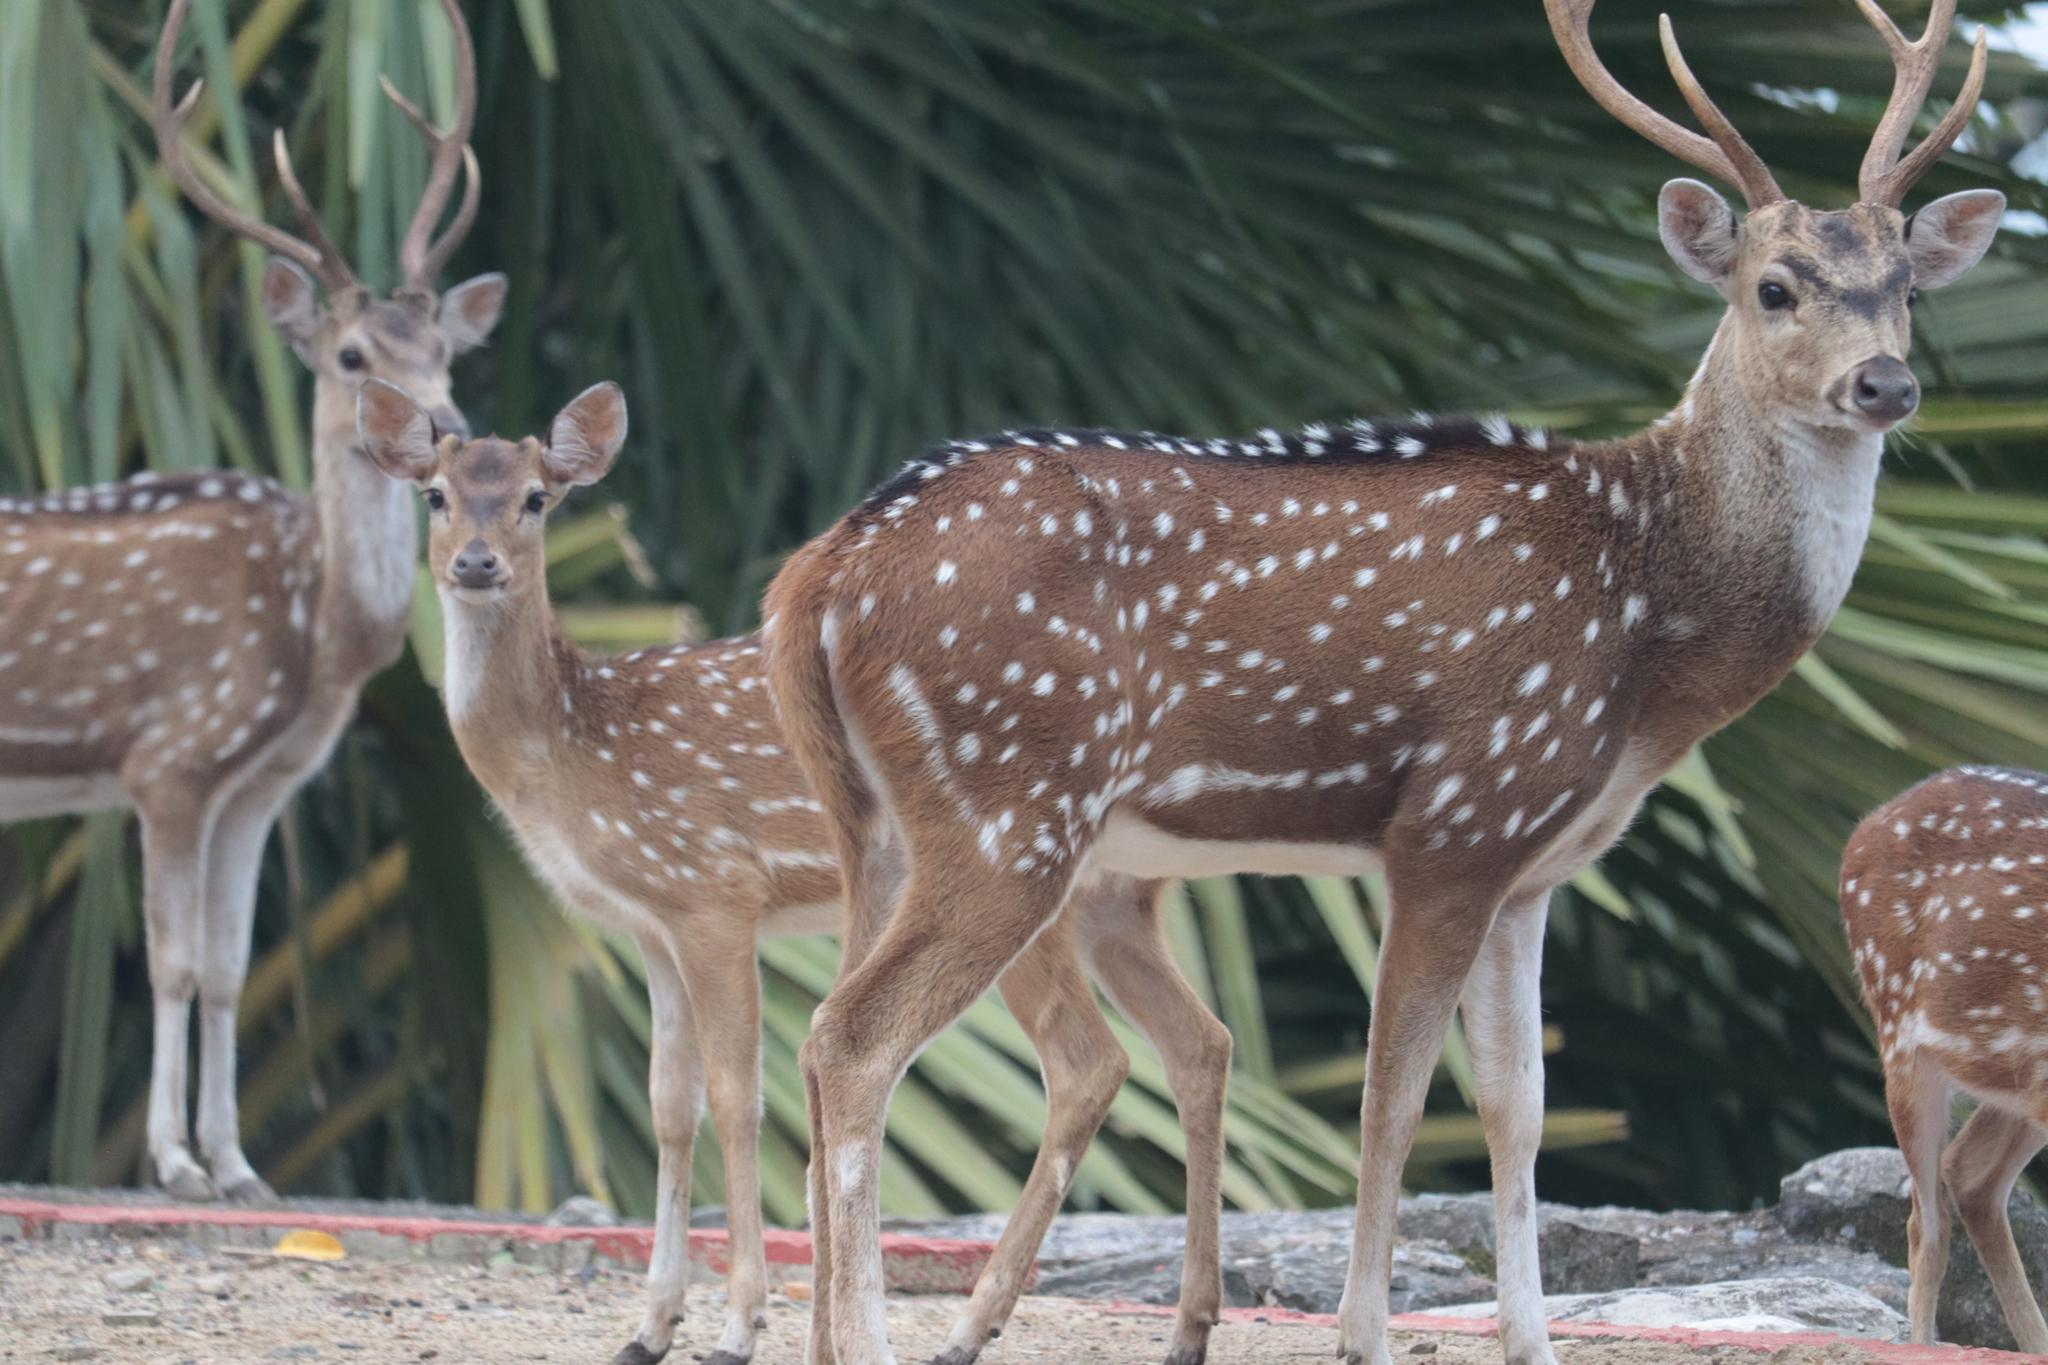Deer: (0, 0, 506, 1197), (359, 379, 844, 1357), (1839, 766, 2046, 1351)
